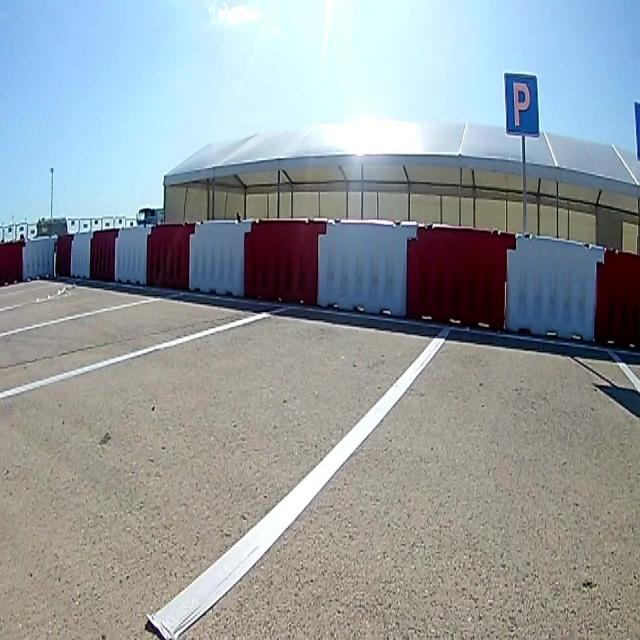park: (504, 72, 540, 137)
